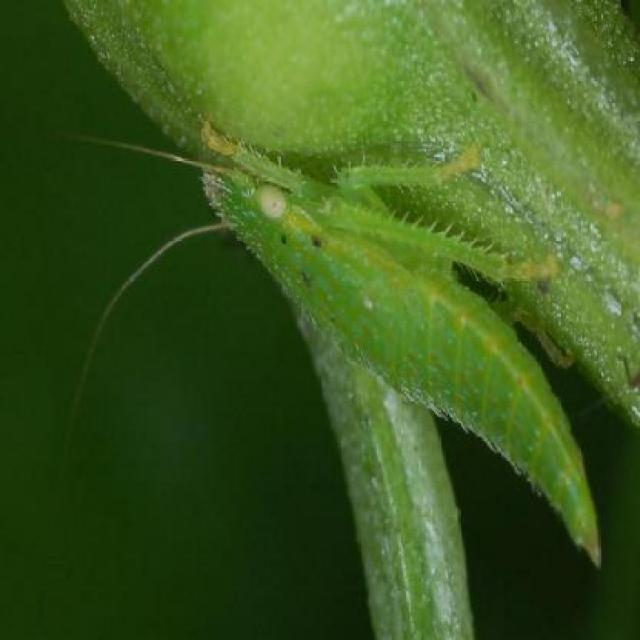green-leafhopper: (212, 154, 600, 555)
